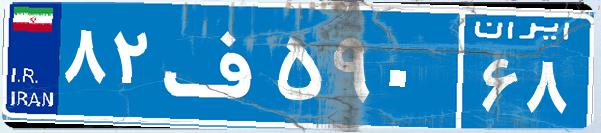0: (385, 28, 445, 110)
2: (110, 28, 158, 105)
5: (273, 28, 330, 110)
6: (475, 38, 525, 113)
8: (57, 26, 110, 107), (525, 38, 570, 115)
9: (330, 28, 385, 110)
ف: (158, 15, 273, 115)
